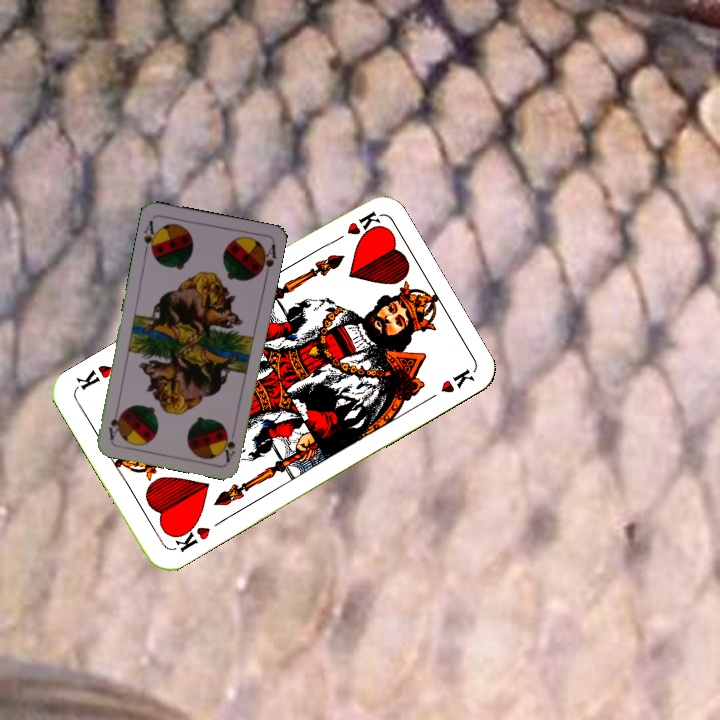HK: (326, 207, 382, 247), (167, 517, 213, 555)
SA: (140, 216, 161, 257), (220, 427, 238, 464)
